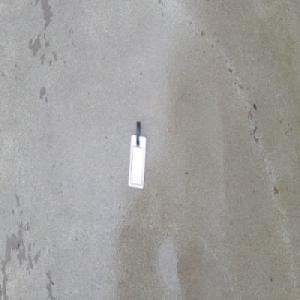LuggageTag: (127, 120, 148, 190)
